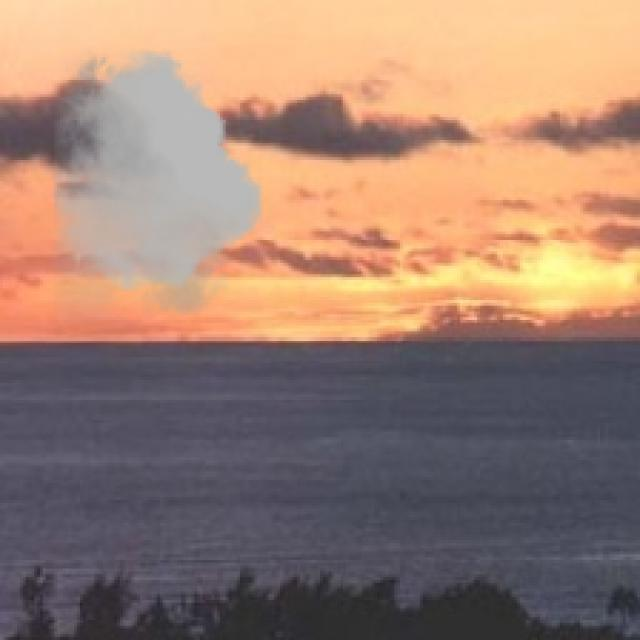smoke: (54, 46, 263, 323)
